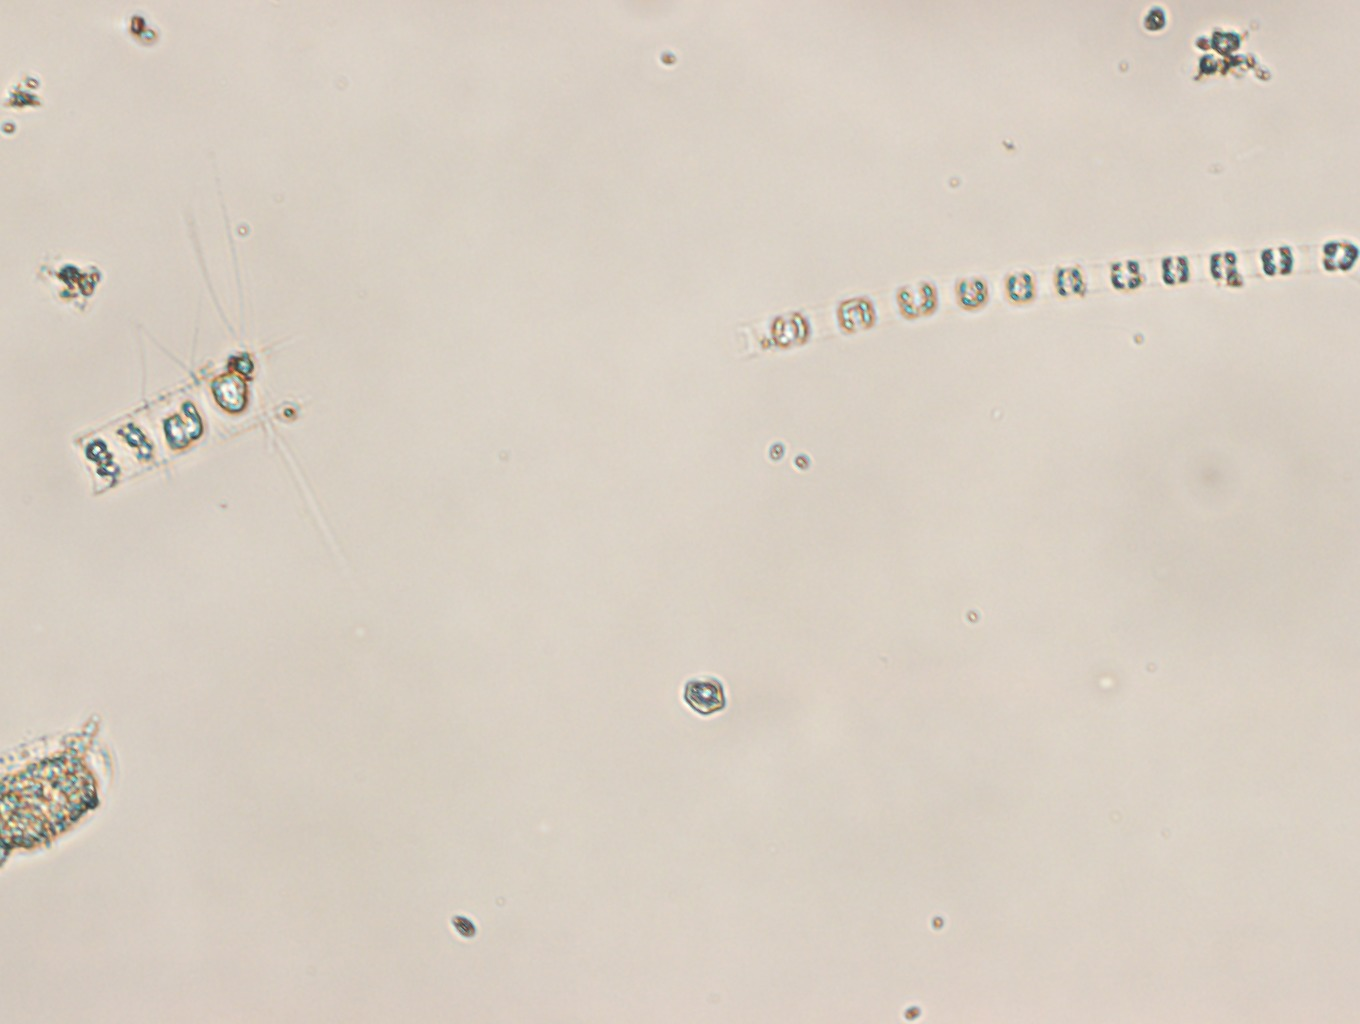chaetoceros: (68, 161, 348, 566)
skeletonema: (728, 239, 1360, 362)
